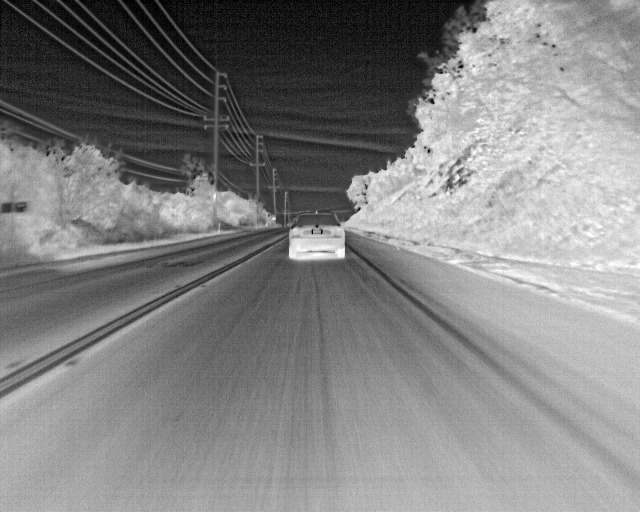vehicle: (289, 211, 347, 261)
